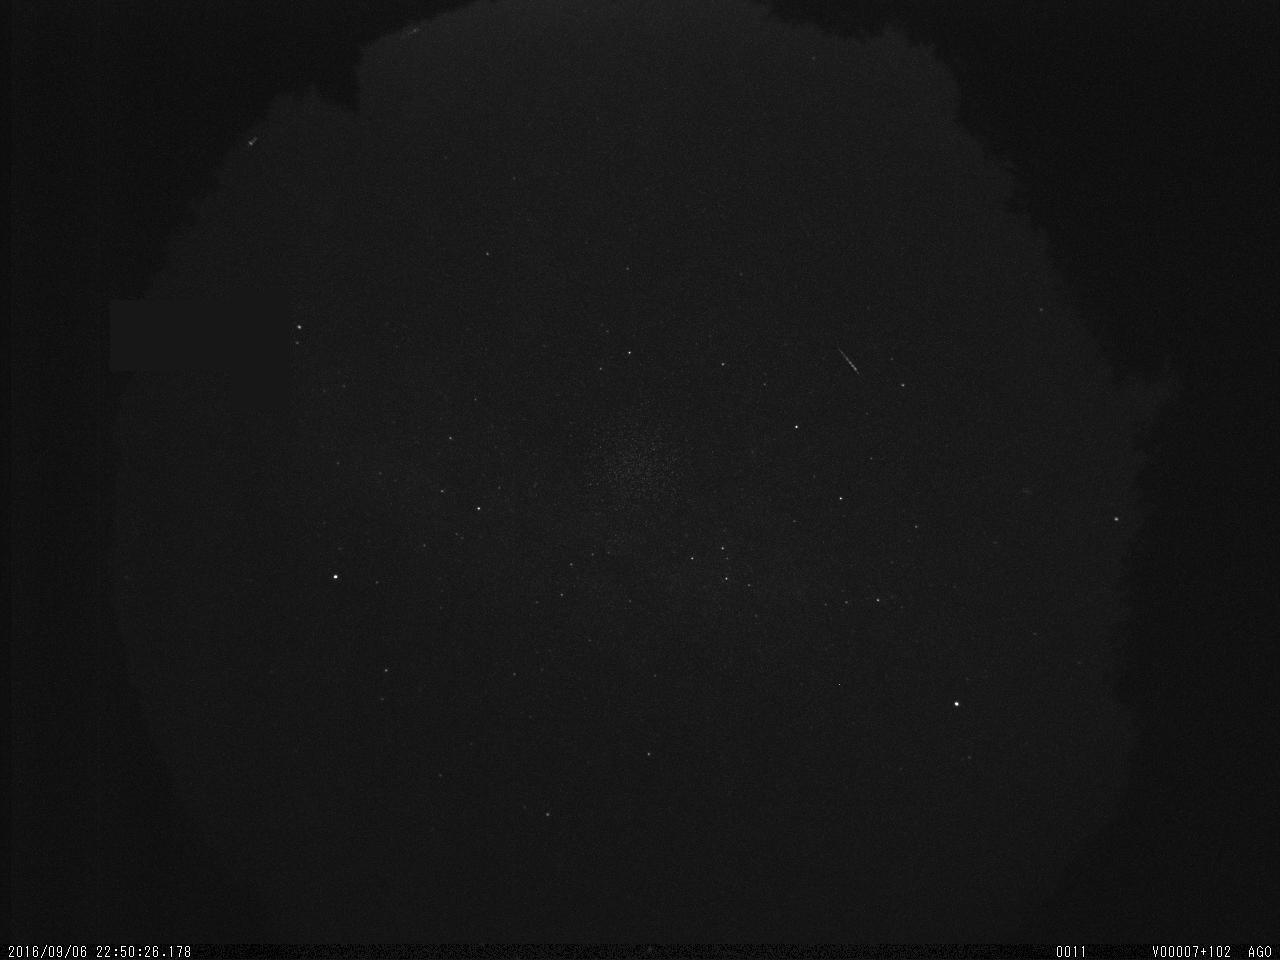meteor: (835, 345, 870, 386)
